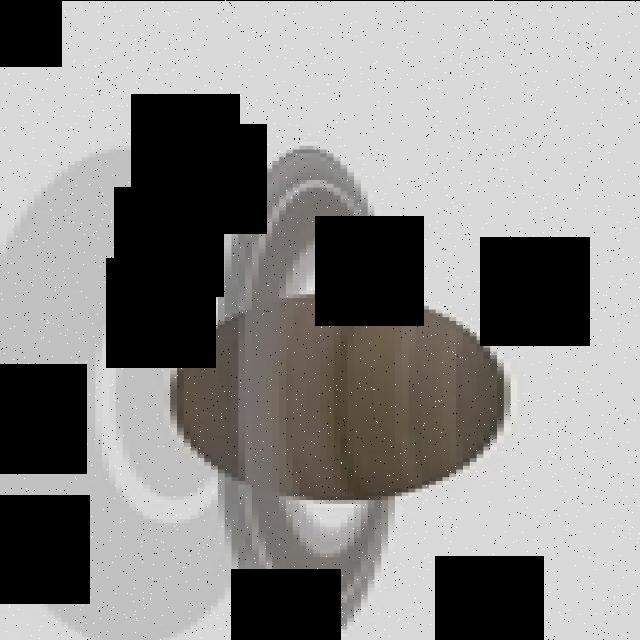Saturn: (170, 133, 518, 640)
